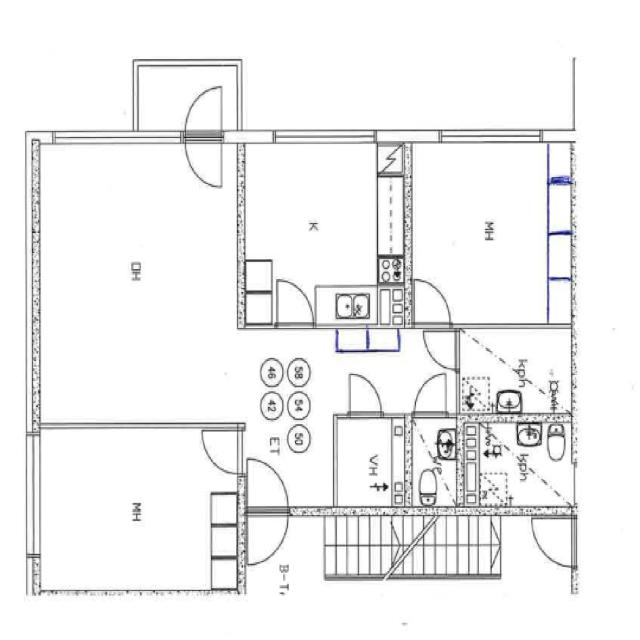door: (240, 454, 292, 570), (179, 84, 227, 194), (413, 328, 458, 421), (411, 273, 457, 346), (195, 423, 245, 482), (242, 510, 288, 571), (271, 275, 320, 329), (341, 368, 389, 421), (417, 319, 462, 375), (409, 368, 452, 418)
window: (49, 127, 189, 153), (20, 431, 47, 565), (262, 122, 376, 150), (438, 121, 542, 149)
zone: (35, 138, 237, 428), (31, 426, 242, 594), (239, 139, 407, 309), (406, 138, 557, 326), (463, 416, 574, 516), (456, 324, 572, 417), (334, 414, 412, 515), (409, 416, 464, 512), (531, 516, 575, 576)
